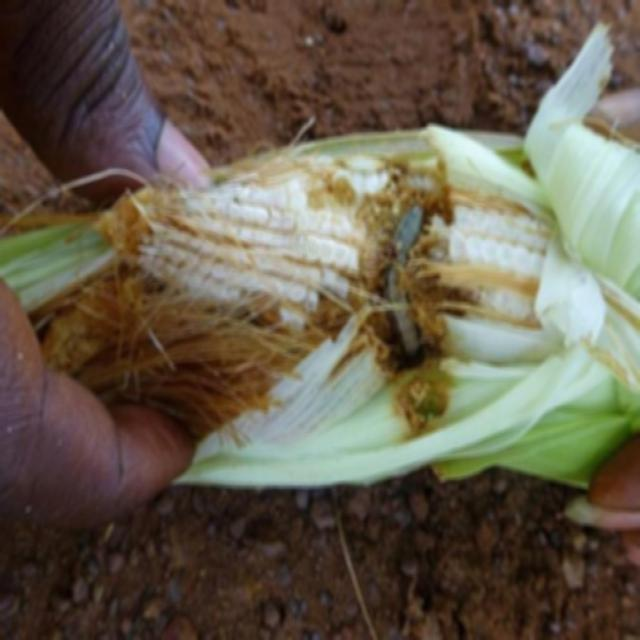army worm: (379, 195, 440, 371)
